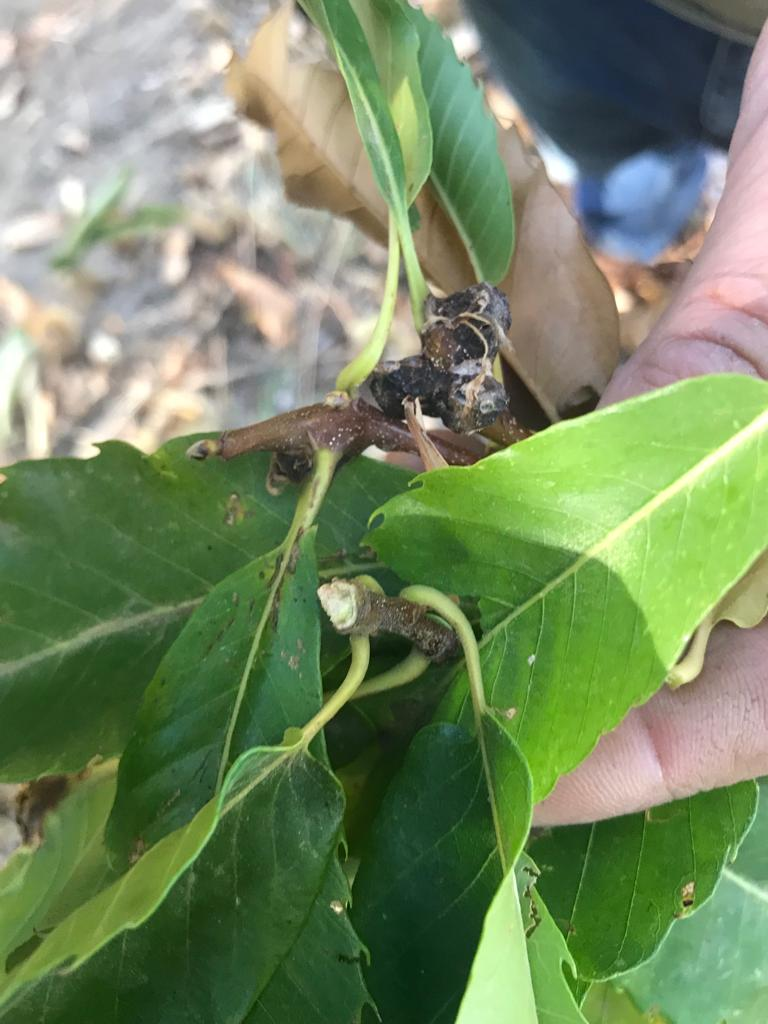galarisi: (344, 259, 551, 687)
